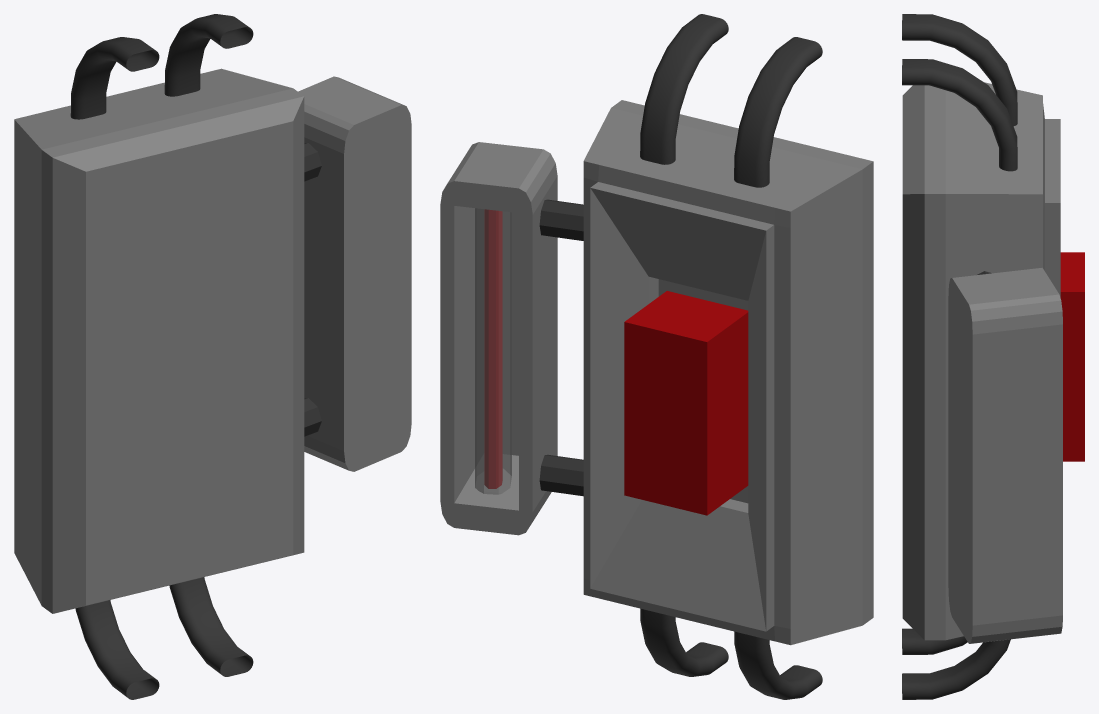
File: button.fbx
3 renders of one model, left to right at view 1: azimuth 30°, elevation 25°; view 2: azimuth 150°, elevation 25°; view 3: azimuth 270°, elevation 25°, orthographic. The views are drawn at different scales.
Visible parts, largest first — view 1: Cube.001, Cube.002, Arc, Cylinder; view 2: Cube.001, Cube.002, Cube, Arc, Cylinder.001, Cylinder.002, Cylinder; view 3: Cube.001, Cube.002, Arc, Cube.
Boxes of the visible parts, x1,y1,x2,y2 form: Cube.001: [14, 68, 304, 613]; Cube.002: [298, 76, 411, 471]; Arc: [70, 14, 253, 699]; Cylinder: [304, 143, 321, 436]; Cube.001: [583, 100, 873, 645]; Cube.002: [440, 142, 557, 535]; Cube: [624, 291, 748, 515]; Arc: [640, 14, 822, 699]; Cylinder.001: [475, 208, 511, 494]; Cylinder.002: [484, 209, 502, 488]; Cylinder: [539, 199, 583, 496]; Cube.001: [902, 82, 1060, 640]; Cube.002: [948, 267, 1062, 643]; Arc: [902, 14, 1017, 699]; Cube: [1060, 252, 1084, 461].
Bounding box in the file's own units: 46.31 × 74.44 × 19.53.
